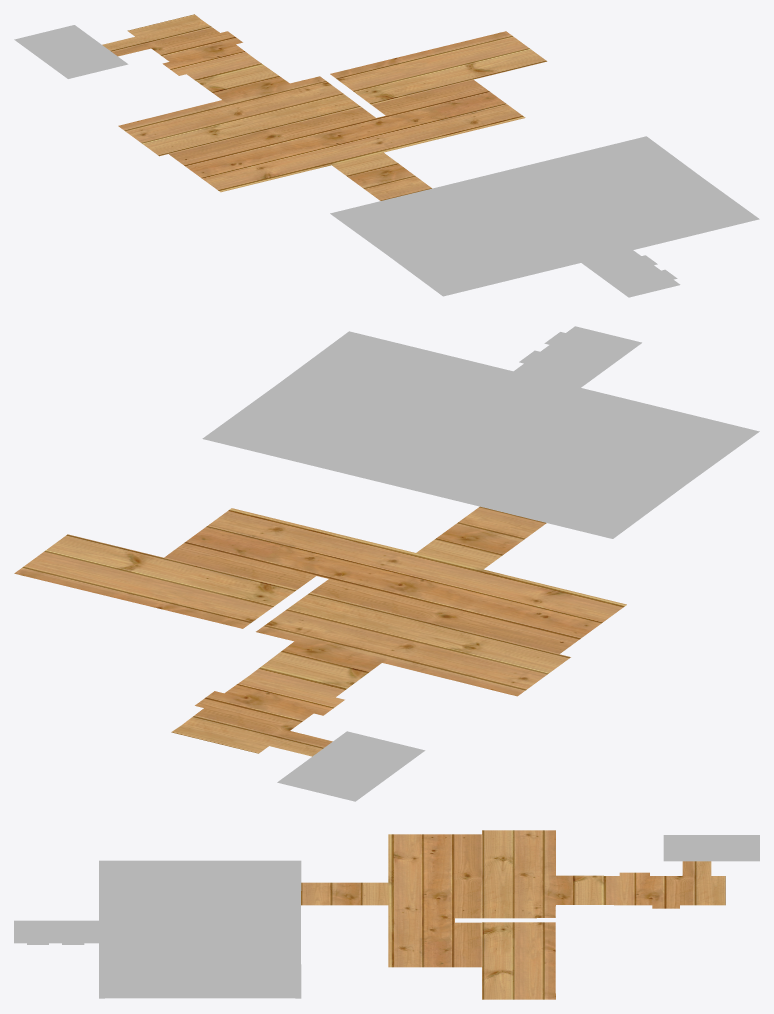
File: Floor_Full02.FBX
3 views of the same model, one above another, from view 1: azimuth 30°, elevation 25°; view 2: azimuth 150°, elevation 25°; view 3: azimuth 270°, elevation 25° (orthographic). The views are drawn at different scales.
Visible parts, largest first — view 1: Object050, Object052, Object051; view 2: Object050, Object052, Object051; view 3: Object050, Object052, Object051.
Part boxes in pixels (left/top/right/bottom): Object050: left=102, top=14, right=547, bottom=200; Object052: left=330, top=136, right=759, bottom=297; Object051: left=14, top=25, right=128, bottom=78; Object050: left=14, top=506, right=626, bottom=756; Object052: left=202, top=326, right=759, bottom=538; Object051: left=277, top=731, right=425, bottom=801; Object050: left=301, top=830, right=725, bottom=999; Object052: left=14, top=860, right=301, bottom=998; Object051: left=663, top=835, right=759, bottom=861.
Bounding box in the file's own units: 3535 × 4.23 × 6592.
